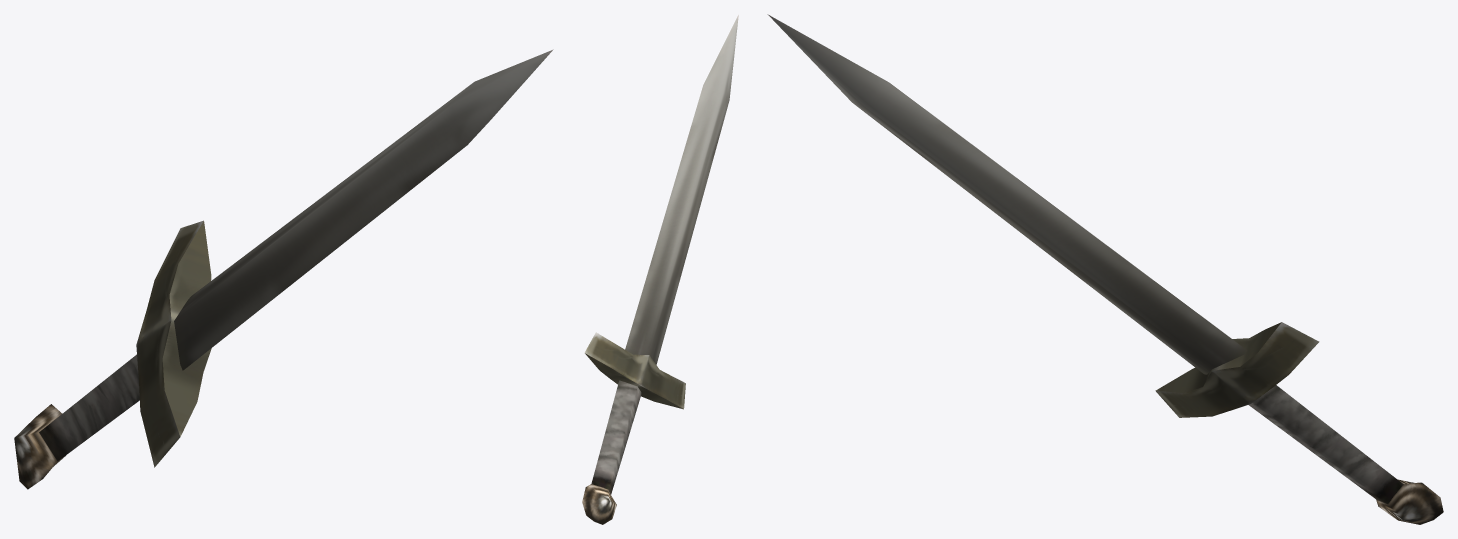
The model's file is sword.fbx.
3 views of the same model, side by side, from view 1: azimuth 30°, elevation 25°; view 2: azimuth 150°, elevation 25°; view 3: azimuth 270°, elevation 25° (orthographic). The views are drawn at different scales.
Parts seen in each view (by area): view 1: sword; view 2: sword; view 3: sword.
Boxes of the visible parts, bbox=[...] form: sword: bbox=[14, 49, 553, 489]; sword: bbox=[582, 15, 738, 524]; sword: bbox=[767, 14, 1443, 524].
Size of the model in its own units: 36.51 by 167 by 182.
